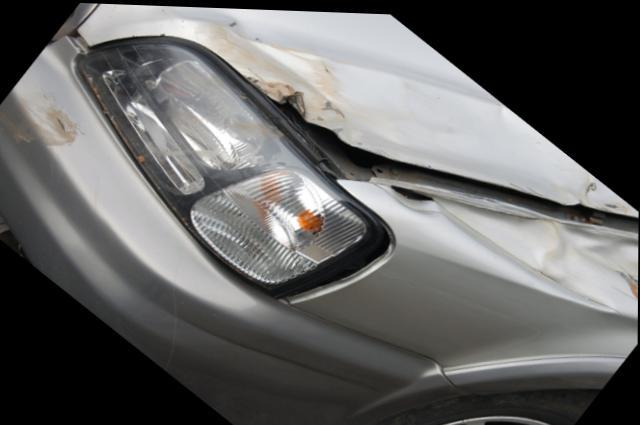dent: (234, 42, 639, 209), (431, 193, 639, 309)
dislocated part: (251, 84, 639, 237)
scratch: (0, 54, 78, 155)
